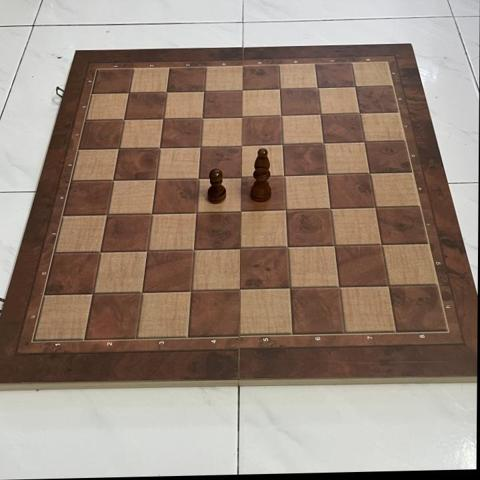xcorner: (150, 139, 168, 157), (232, 168, 250, 186), (330, 278, 348, 296), (347, 78, 365, 95), (233, 81, 250, 99), (195, 82, 212, 100), (157, 83, 174, 101), (119, 84, 136, 102), (272, 107, 290, 124), (154, 110, 171, 128), (114, 111, 131, 129), (356, 134, 374, 151), (191, 138, 209, 155), (109, 140, 126, 158), (361, 165, 379, 182), (318, 166, 336, 183), (275, 167, 293, 184), (277, 201, 294, 219), (232, 203, 250, 220), (187, 204, 205, 221), (98, 206, 115, 224), (326, 237, 343, 255), (185, 241, 202, 259), (91, 244, 109, 261), (183, 282, 200, 300), (133, 284, 151, 301), (309, 79, 326, 96), (271, 80, 288, 97), (352, 105, 369, 122), (312, 106, 329, 123), (233, 108, 250, 125), (193, 109, 210, 126), (315, 135, 332, 152), (274, 136, 291, 153), (233, 137, 250, 154), (190, 170, 207, 187), (147, 171, 164, 188), (104, 172, 121, 189), (367, 199, 384, 216), (322, 200, 339, 217), (143, 205, 160, 222), (373, 236, 390, 253), (279, 239, 296, 256), (232, 240, 249, 257), (138, 243, 155, 260), (380, 277, 397, 294), (281, 280, 298, 297), (232, 281, 249, 298), (84, 285, 101, 302)
